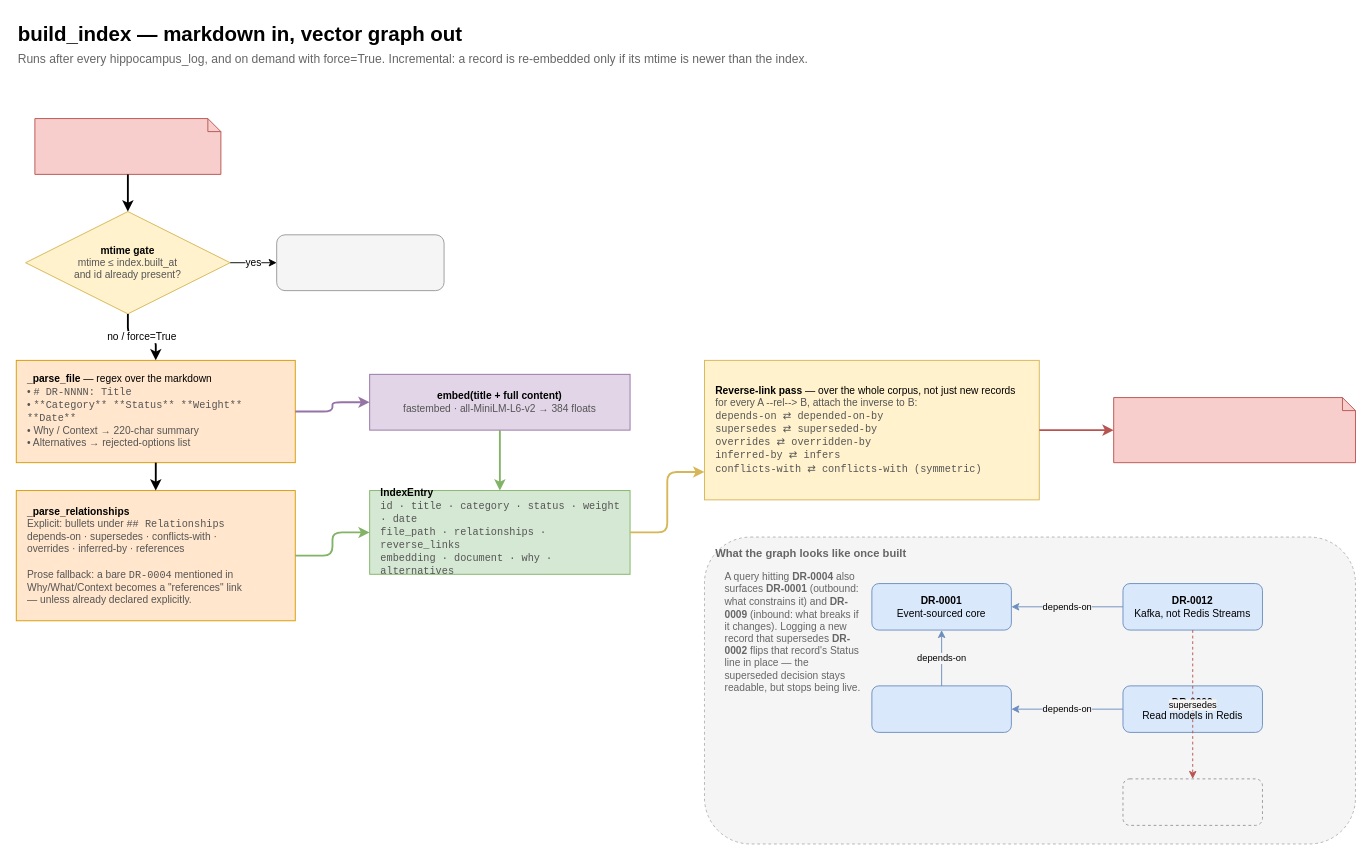
Some shapes in this 1372 by 860 pixel diagram are drawn without their labels. The centre of each missing label's shape, as x and y in pixels:
.decisions/records/*.md sorted glob: (127,146)
.hippocampus/index.json entries sorted by id · built_at = now (ms): (1234,430)
DR-0002 (superseded) Redis Streams for events: (1192,801)
DR-0004 Postgres for the ledger: (941,708)
skip — reuse existing entry (no re-embedding): (360,262)
